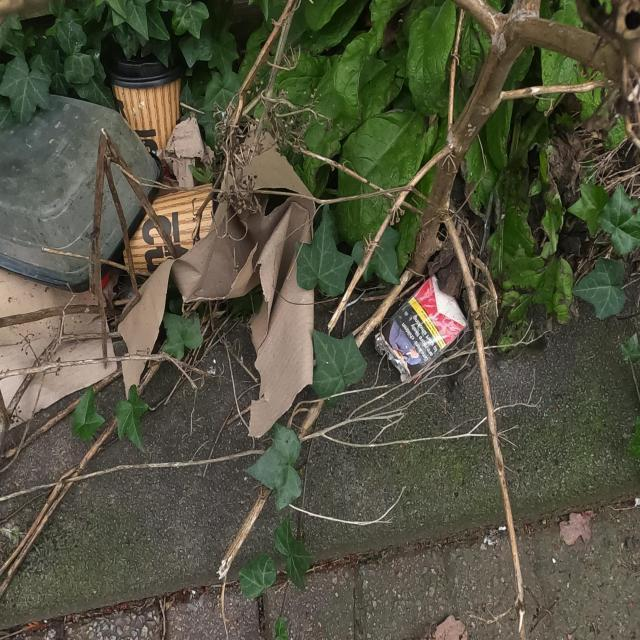Cup: (121, 182, 216, 276), (108, 55, 186, 162)
